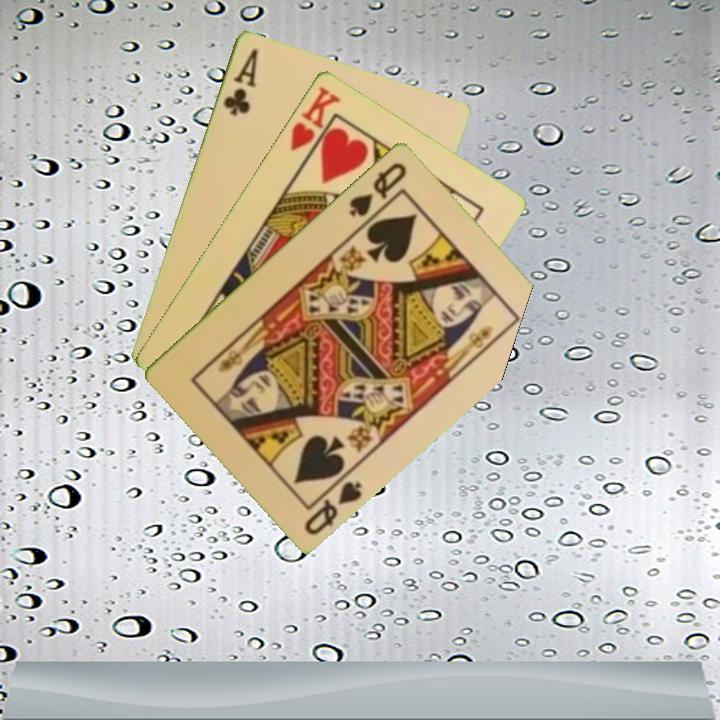Ac: (219, 44, 261, 118)
Kh: (286, 82, 343, 165)
Qs: (345, 158, 410, 219), (301, 477, 365, 537)
